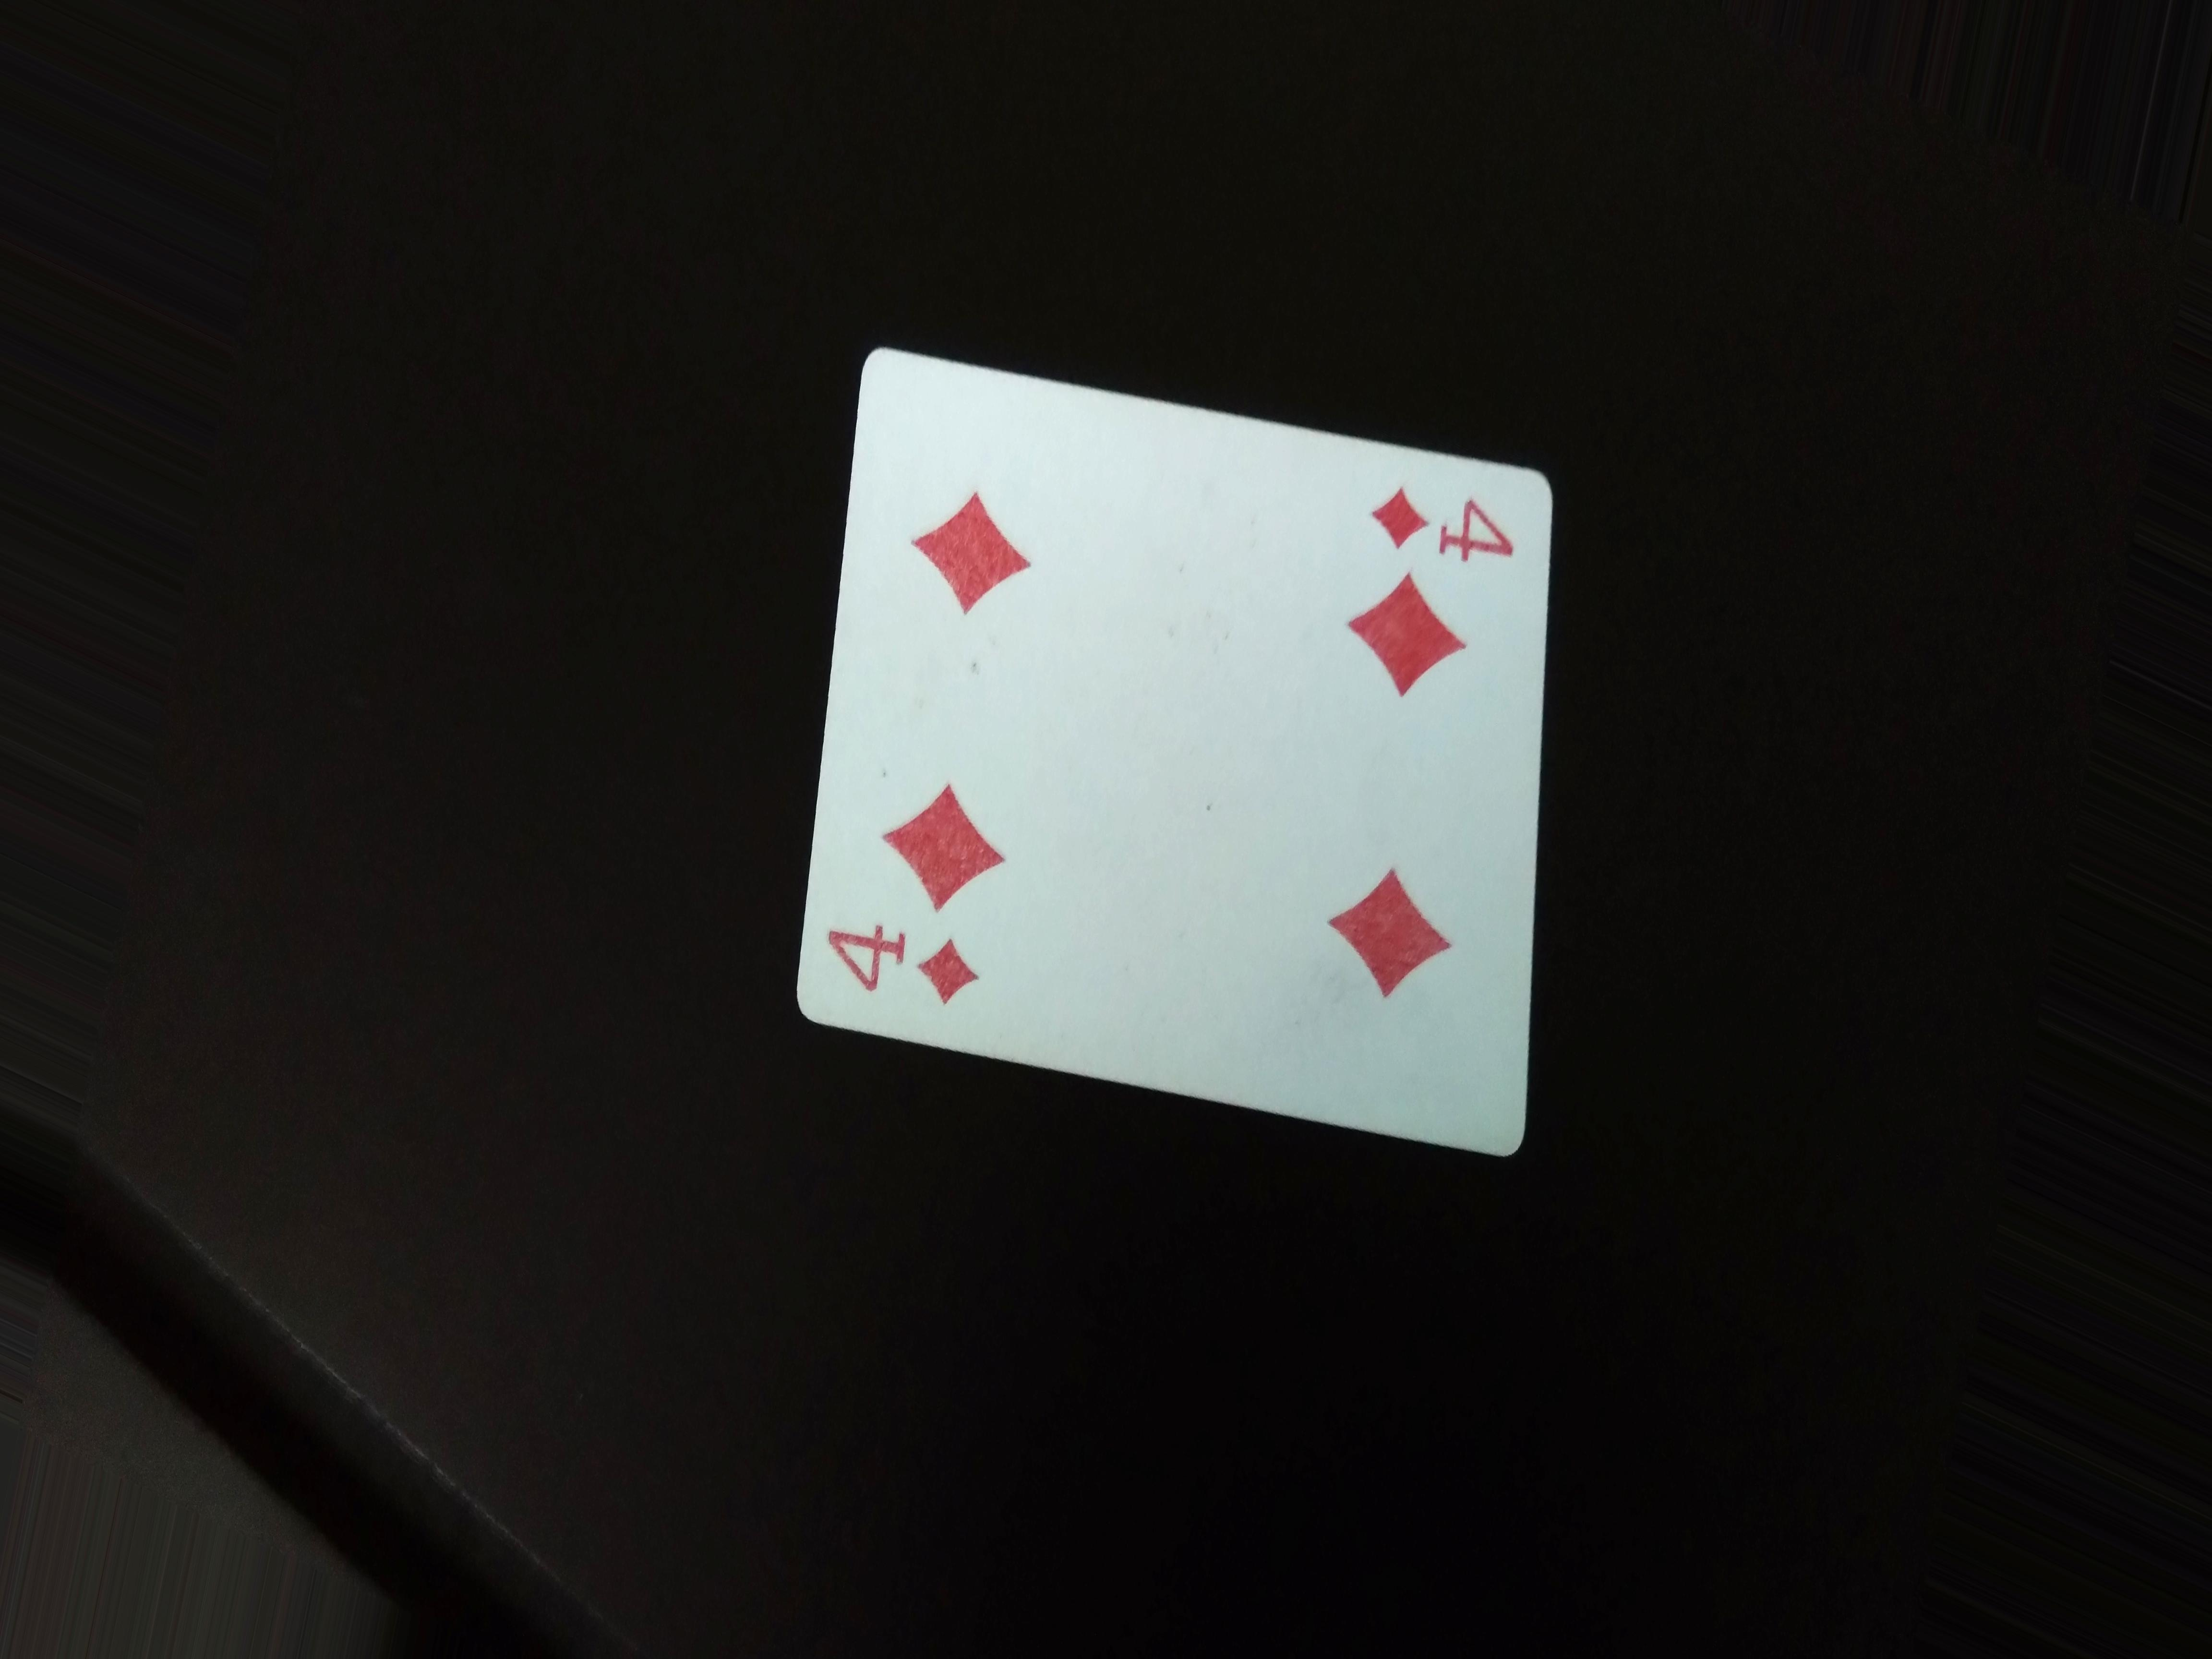4D: (812, 904, 1014, 1037)
